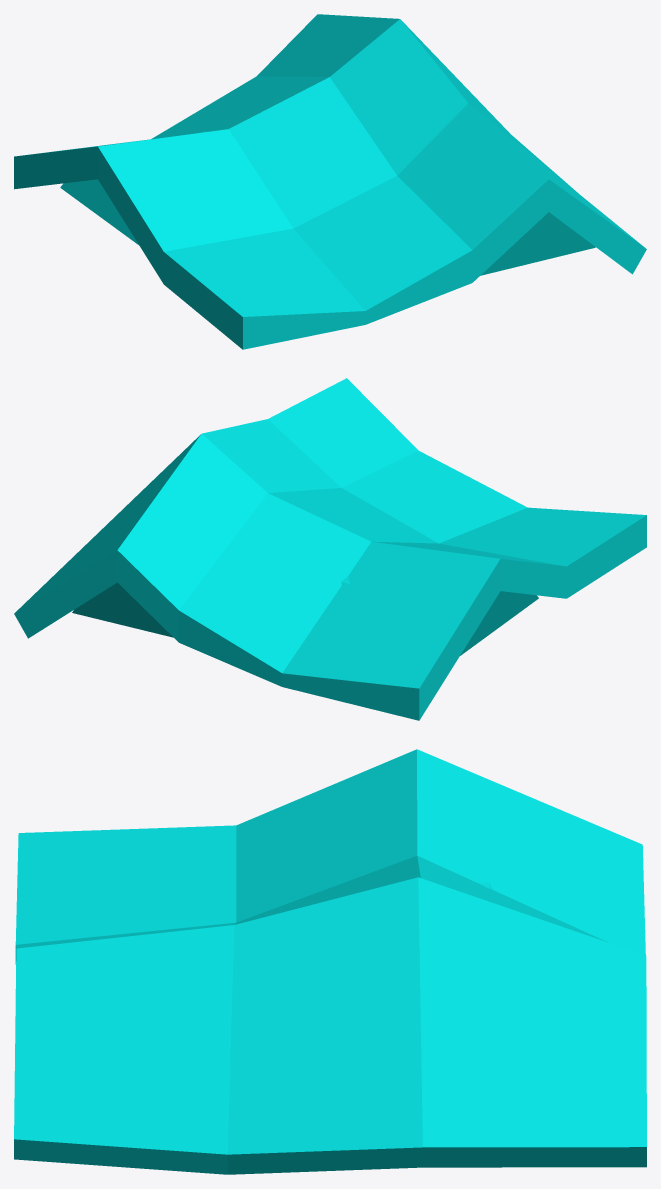
Rendered from SM_Bld_Roof_Thatch_Preset_Wavey_01_Collision.fbx.
3 views of the same model, one above another, from view 1: azimuth 30°, elevation 25°; view 2: azimuth 150°, elevation 25°; view 3: azimuth 270°, elevation 25° (orthographic). The views are drawn at different scales.
Visible parts, largest first — view 1: SM_Bld_Roof_Thatch_Preset_Wavey_01_Collision; view 2: SM_Bld_Roof_Thatch_Preset_Wavey_01_Collision; view 3: SM_Bld_Roof_Thatch_Preset_Wavey_01_Collision.
Part boxes in pixels (bbox=[...]): SM_Bld_Roof_Thatch_Preset_Wavey_01_Collision: bbox=[14, 14, 646, 349]; SM_Bld_Roof_Thatch_Preset_Wavey_01_Collision: bbox=[14, 378, 646, 720]; SM_Bld_Roof_Thatch_Preset_Wavey_01_Collision: bbox=[14, 749, 646, 1174].
Bounding box in the file's own units: 916 × 363 × 887.
